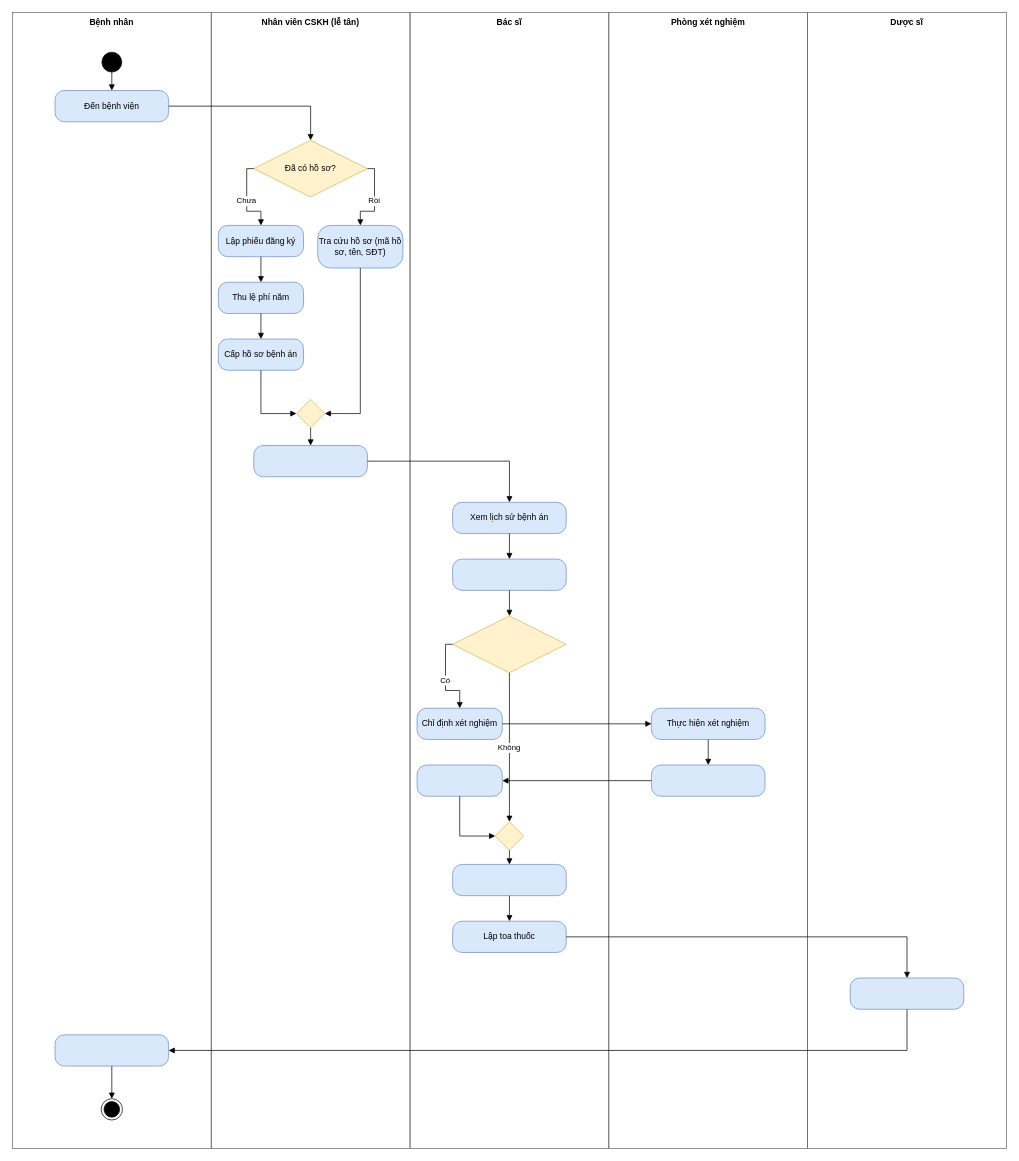
The diagram is 1019 pixels wide and 1161 high, and some of its shapes have lost their labels. The centre of each missing label's shape, as x and y in pixels:
"Chẩn đoán" goes at (x=509, y=880).
"Cần xét nghiệm?" goes at (x=509, y=644).
"Khám, ghi triệu chứng" goes at (x=509, y=574).
"Lập phiếu khám" goes at (x=310, y=461).
"Nhận toa thuốc và thuốc" goes at (x=111, y=1050).
"Nhập kết quả" goes at (x=708, y=780).
"Phát thuốc theo toa" goes at (x=907, y=993).
"Xem kết quả xét nghiệm" goes at (x=459, y=780).
